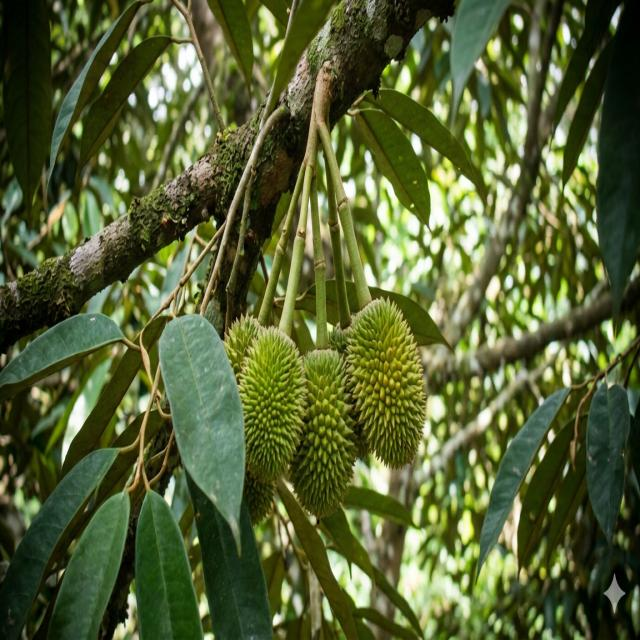immature: (342, 294, 426, 467), (287, 346, 357, 519), (236, 321, 307, 479), (224, 312, 262, 382), (303, 346, 345, 386), (328, 323, 352, 356)
